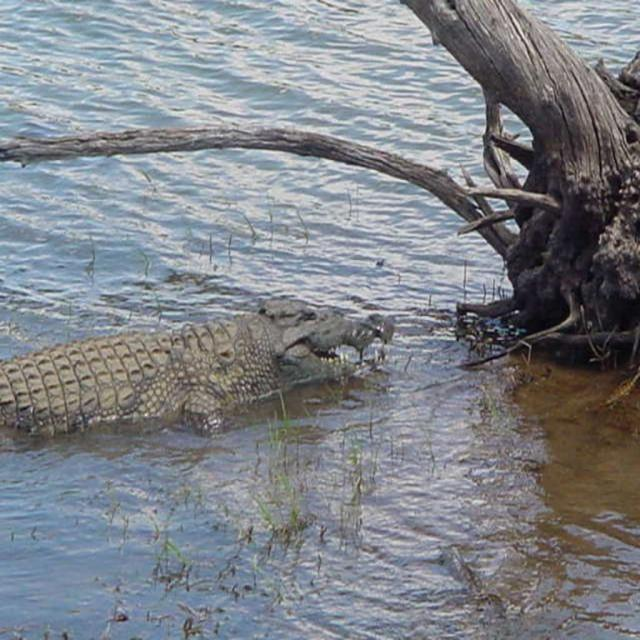crocodile: (0, 275, 416, 465)
